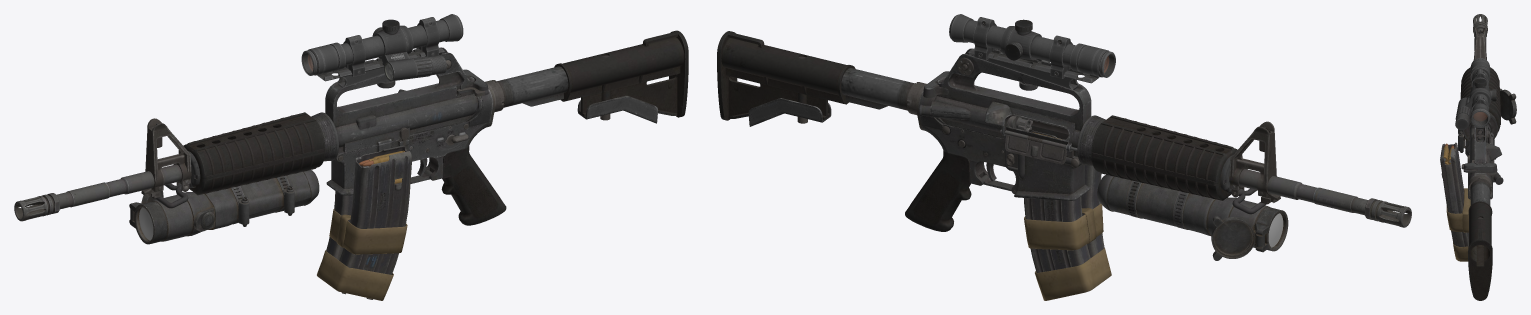
The model's file is colt723.glb.
The picture shows the model from 3 angles, left to right: view 1: azimuth 30°, elevation 25°; view 2: azimuth 150°, elevation 25°; view 3: azimuth 270°, elevation 25°; orthographic projection. The views are drawn at different scales.
Parts seen in each view (by area): view 1: Object_9, Object_6, Object_7, Object_3, Object_10, Object_8; view 2: Object_9, Object_6, Object_7, Object_10, Object_8, Object_3; view 3: Object_7, Object_6, Object_9, Object_3, Object_8, Object_10, Object_4.
Part boxes in pixels (bbox=[...]): Object_9: bbox=[17, 30, 688, 299]; Object_6: bbox=[15, 52, 677, 300]; Object_7: bbox=[14, 31, 685, 274]; Object_3: bbox=[301, 14, 463, 88]; Object_10: bbox=[129, 170, 319, 244]; Object_8: bbox=[25, 34, 677, 298]; Object_9: bbox=[717, 31, 1408, 272]; Object_6: bbox=[725, 53, 1410, 300]; Object_7: bbox=[720, 32, 1411, 272]; Object_10: bbox=[1097, 174, 1288, 260]; Object_8: bbox=[728, 34, 1402, 231]; Object_3: bbox=[949, 14, 1115, 90]; Object_7: bbox=[1441, 15, 1503, 300]; Object_6: bbox=[1441, 15, 1500, 266]; Object_9: bbox=[1440, 14, 1501, 251]; Object_3: bbox=[1455, 58, 1496, 130]; Object_8: bbox=[1441, 14, 1501, 199]; Object_10: bbox=[1458, 88, 1516, 156]; Object_4: bbox=[1473, 112, 1487, 120].
Size of the model in its own units: 1040 by 392 by 145.
5 materials, 5 textured.
